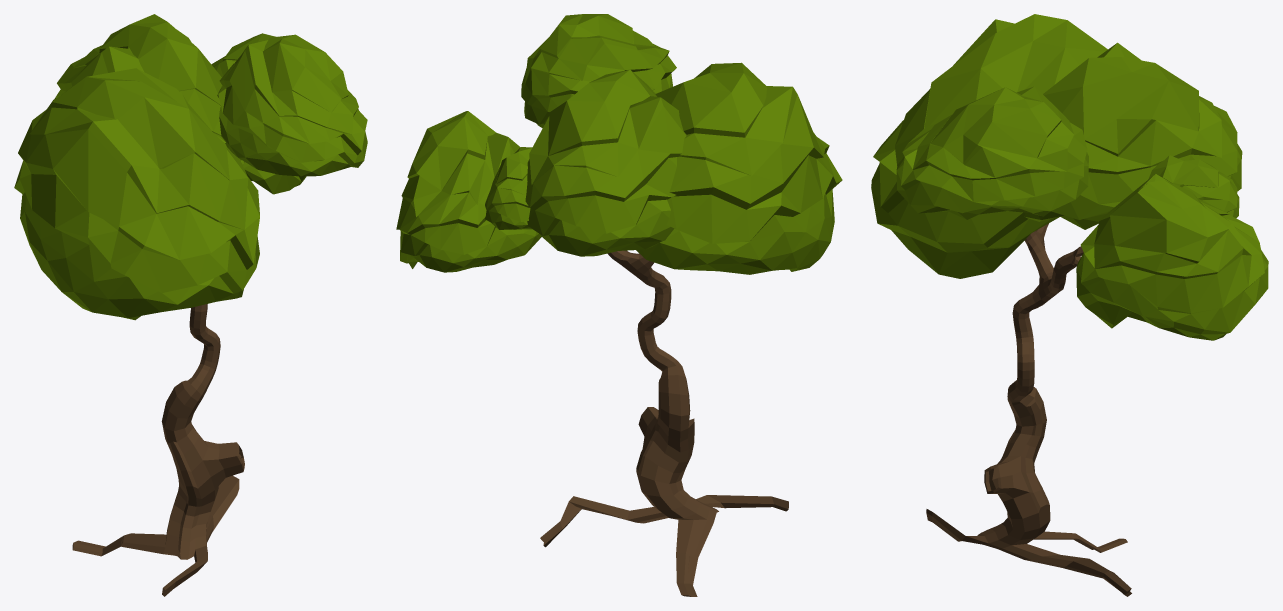
Rendered from tree1.fbx.
3 renders of one model, left to right at view 1: azimuth 30°, elevation 25°; view 2: azimuth 150°, elevation 25°; view 3: azimuth 270°, elevation 25°, orthographic. The views are drawn at different scales.
Parts seen in each view (by area): view 1: Icosphere, Cube; view 2: Icosphere, Cube; view 3: Icosphere, Cube.
Boxes of the visible parts, box(x1,y1,x2,y2) form: Icosphere: box(14, 14, 367, 320); Cube: box(72, 304, 244, 596); Icosphere: box(396, 14, 842, 274); Cube: box(540, 250, 788, 596); Icosphere: box(871, 14, 1268, 340); Cube: box(926, 223, 1131, 596).
Size of the model in its own units: 1317 by 1927 by 1304.
